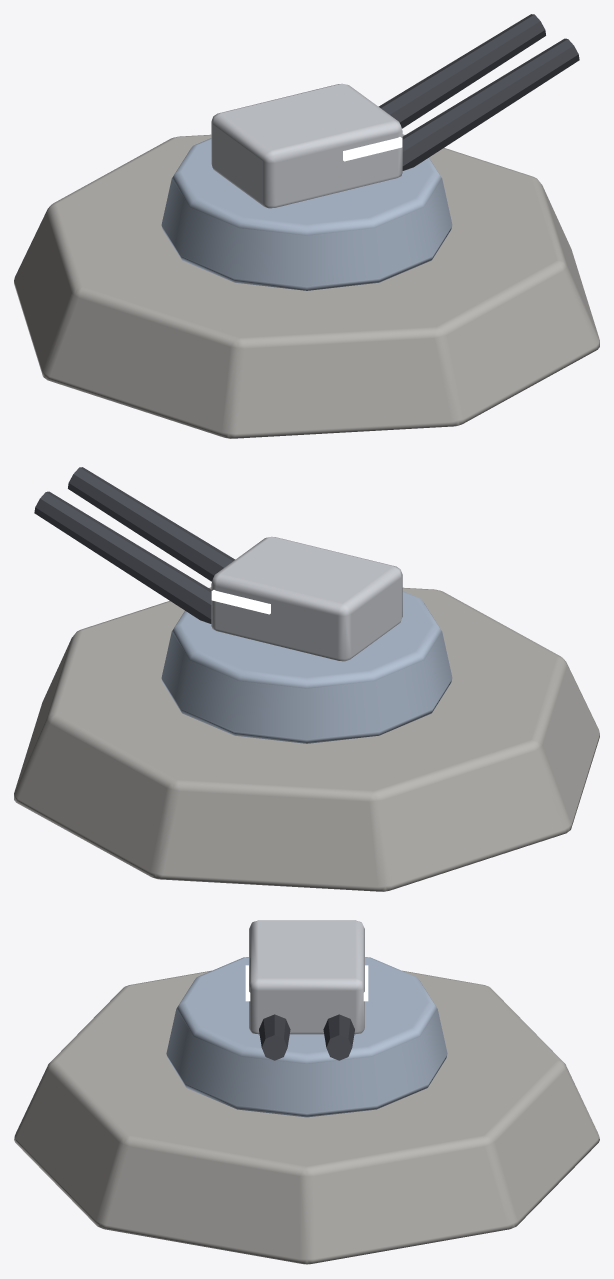
Rendered from defense.glb.
The picture shows the model from 3 angles, top to bottom: view 1: azimuth 30°, elevation 25°; view 2: azimuth 150°, elevation 25°; view 3: azimuth 270°, elevation 25°; orthographic projection. The views are drawn at different scales.
Parts seen in each view (by area): view 1: defense; view 2: defense; view 3: defense.
Part boxes in pixels (x1,y1,x2,y2): defense: (14, 14, 599, 438); defense: (14, 467, 599, 891); defense: (14, 920, 599, 1264).
Bounding box in the file's own units: 0.9071 × 0.3805 × 0.9071.
